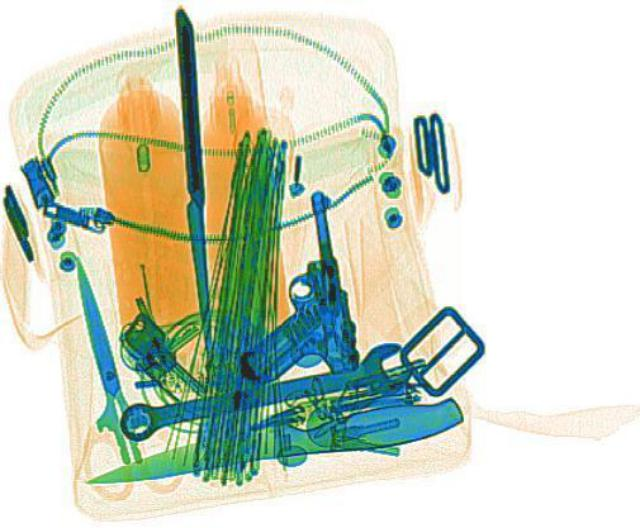Gun: (212, 187, 361, 381)
Knife: (78, 386, 464, 499), (50, 253, 154, 465), (167, 7, 219, 373)
Wrench: (109, 334, 418, 443)
